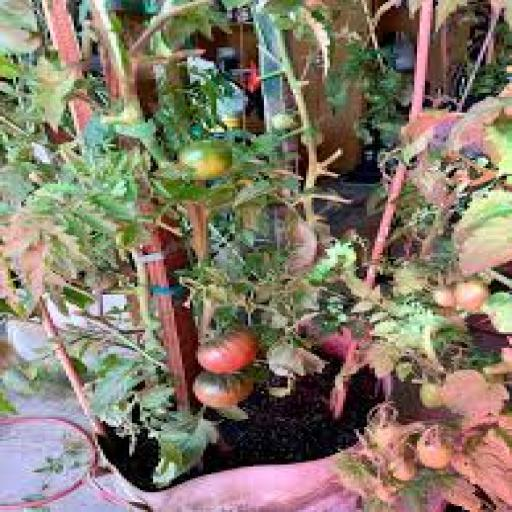tomato: (198, 331, 258, 373), (193, 372, 253, 409), (180, 141, 232, 179), (417, 431, 451, 470), (454, 281, 490, 312), (420, 382, 443, 409), (391, 459, 416, 482), (433, 287, 456, 308), (272, 113, 298, 130)
